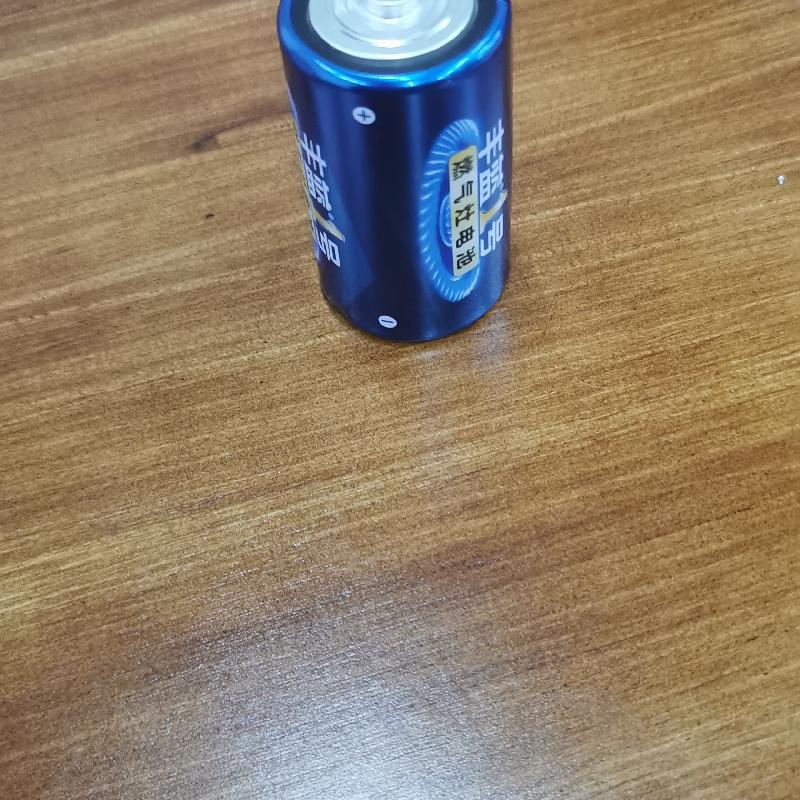battery: (277, 0, 521, 347)
